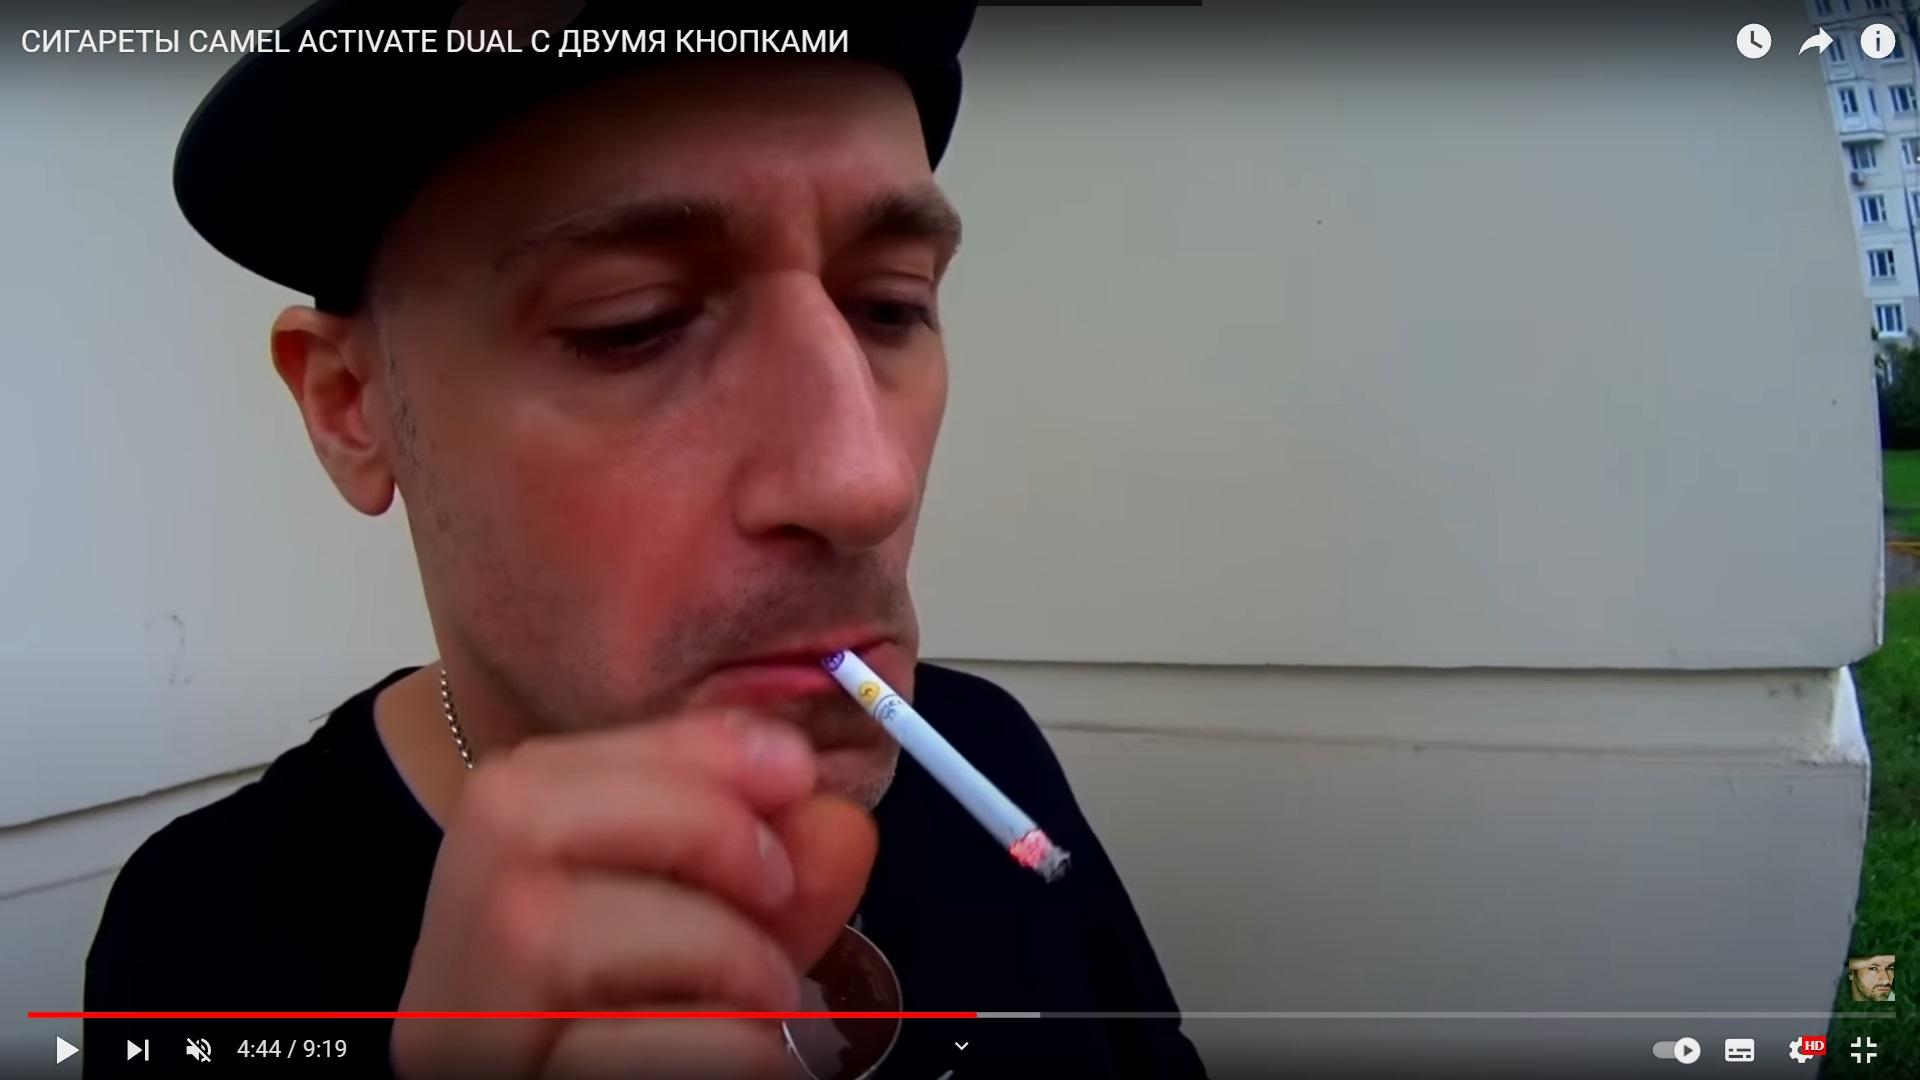cigarette: (816, 650, 1071, 885)
